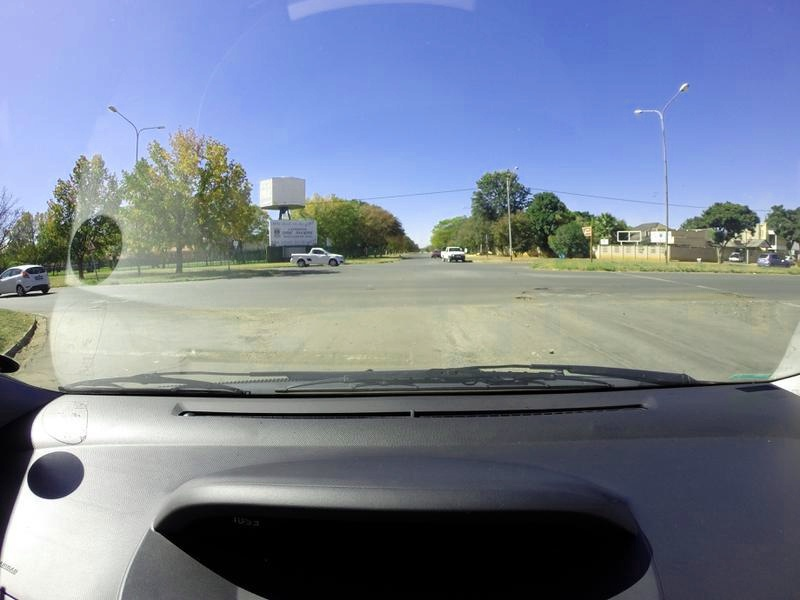pothole: (509, 289, 537, 302), (535, 279, 551, 300)
